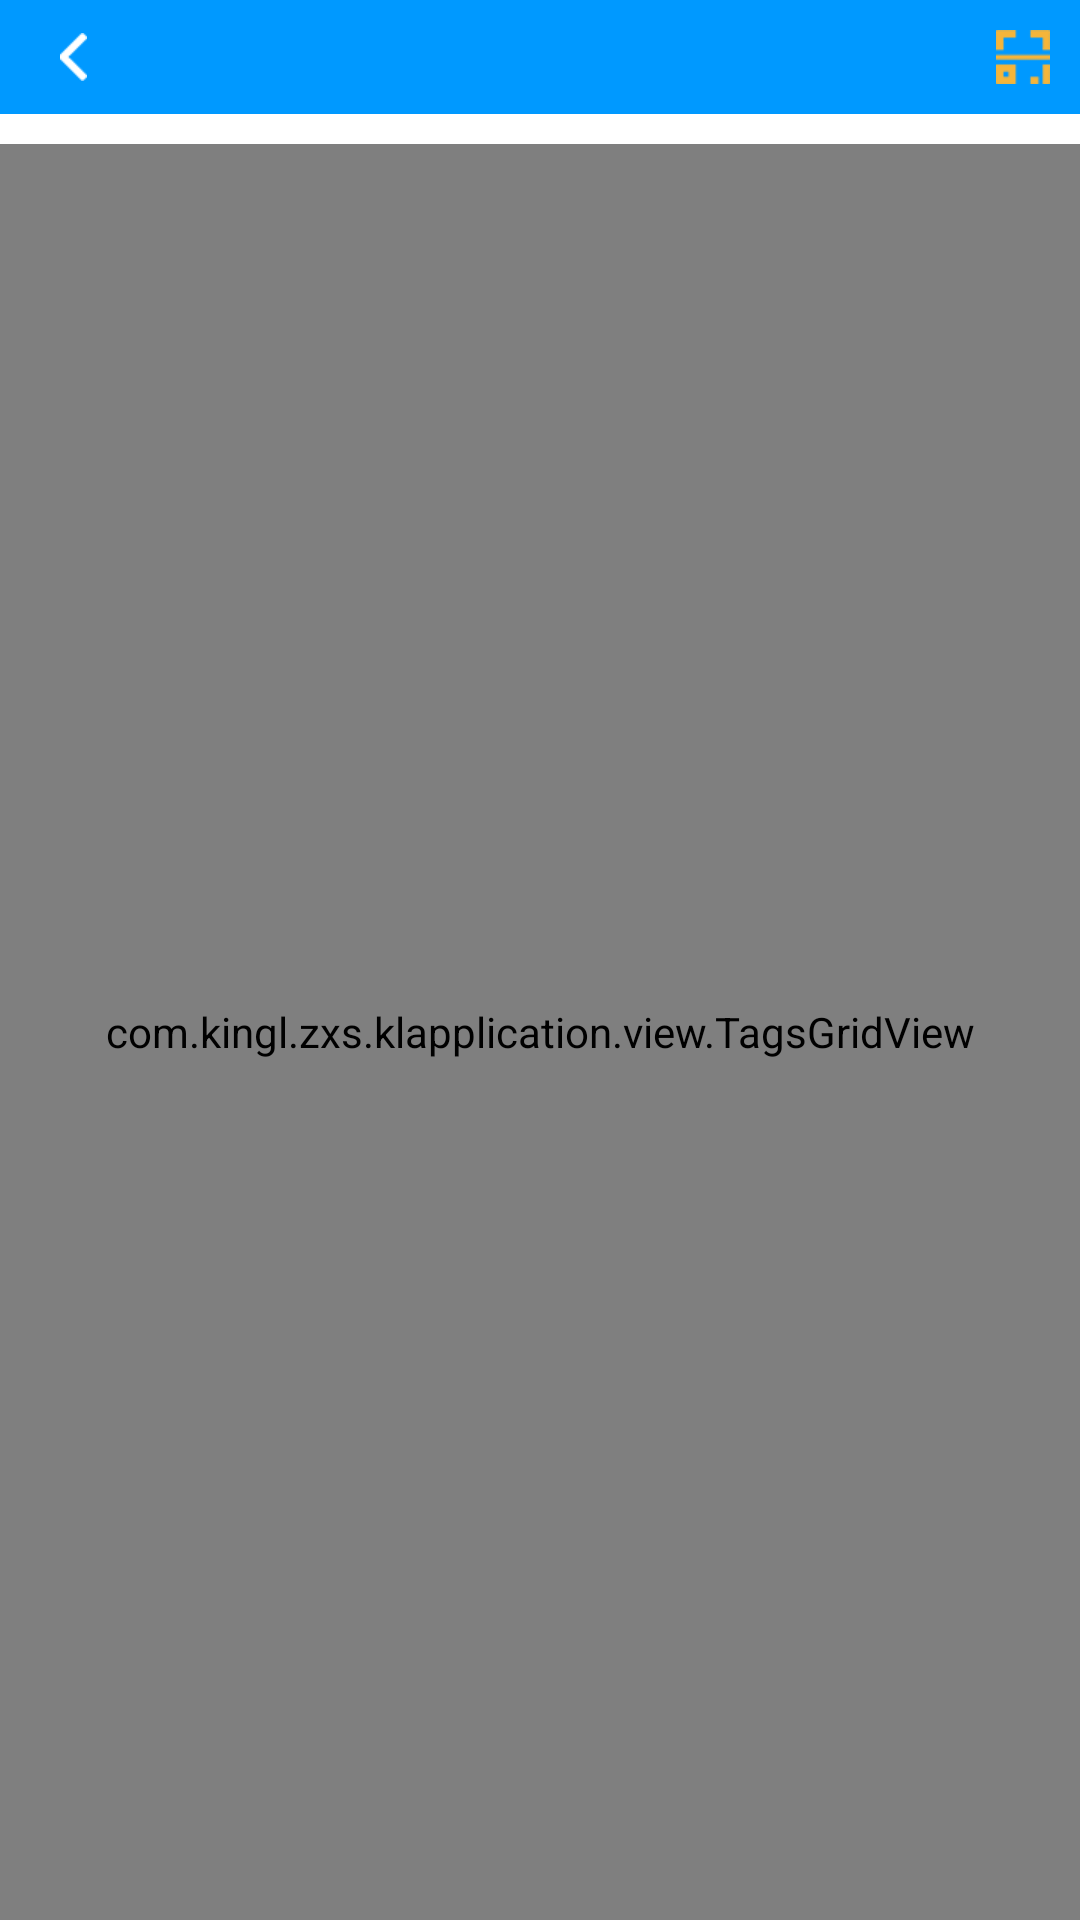

Screen size 1080*1920. Icon name, then its box in pixels as {"left": x1, "top": y1, "right": x2, "bottom": y2}:
back: {"left": 60, "top": 33, "right": 87, "bottom": 81}
scany: {"left": 996, "top": 30, "right": 1050, "bottom": 84}
